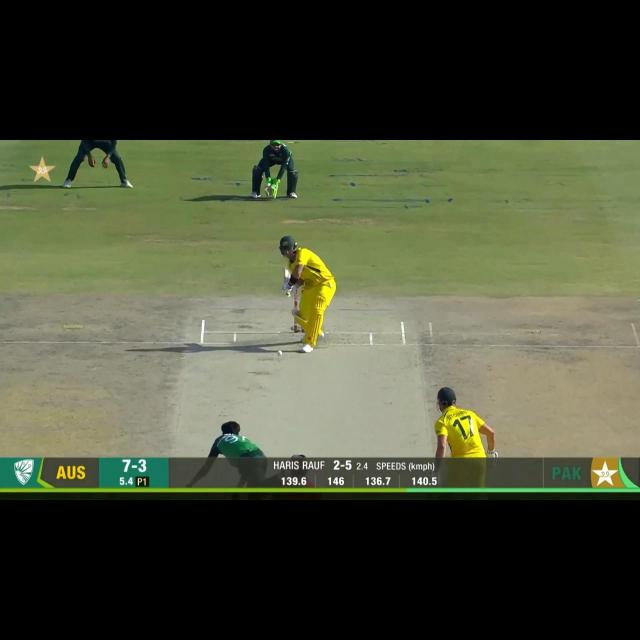bat: (283, 264, 291, 285)
toe: (283, 266, 292, 274)
